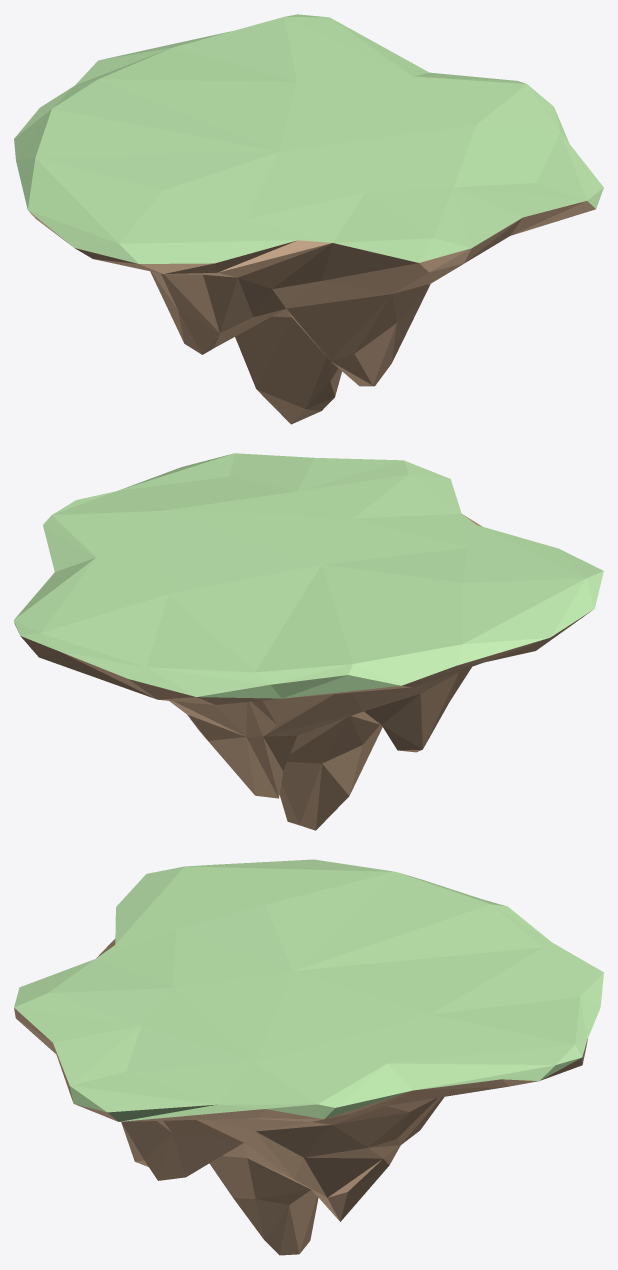
File: island4_Green.fbx
The picture shows the model from 3 angles, top to bottom: view 1: azimuth 30°, elevation 25°; view 2: azimuth 150°, elevation 25°; view 3: azimuth 270°, elevation 25°; orthographic projection. The views are drawn at different scales.
Parts seen in each view (by area): view 1: island4; view 2: island4; view 3: island4.
Boxes of the visible parts, x1,y1,x2,y2 form: island4: (14, 14, 603, 424); island4: (14, 453, 603, 830); island4: (14, 859, 603, 1255).
Bounding box in the file's own units: 34.21 × 18.01 × 34.37.
